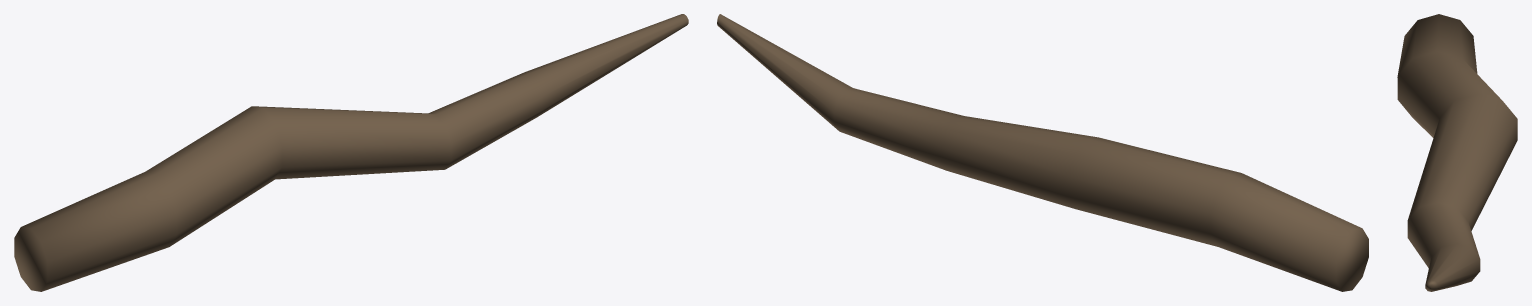
File: Galhao_1.fbx
The picture shows the model from 3 angles, left to right: view 1: azimuth 30°, elevation 25°; view 2: azimuth 150°, elevation 25°; view 3: azimuth 270°, elevation 25°; orthographic projection. The views are drawn at different scales.
Parts seen in each view (by area): view 1: pCylinder1; view 2: pCylinder1; view 3: pCylinder1.
Part boxes in pixels (x1,y1,x2,y2): pCylinder1: (14, 14, 688, 291); pCylinder1: (717, 14, 1368, 291); pCylinder1: (1397, 14, 1517, 291).
Size of the model in its own units: 25.07 by 4.43 by 3.88.
